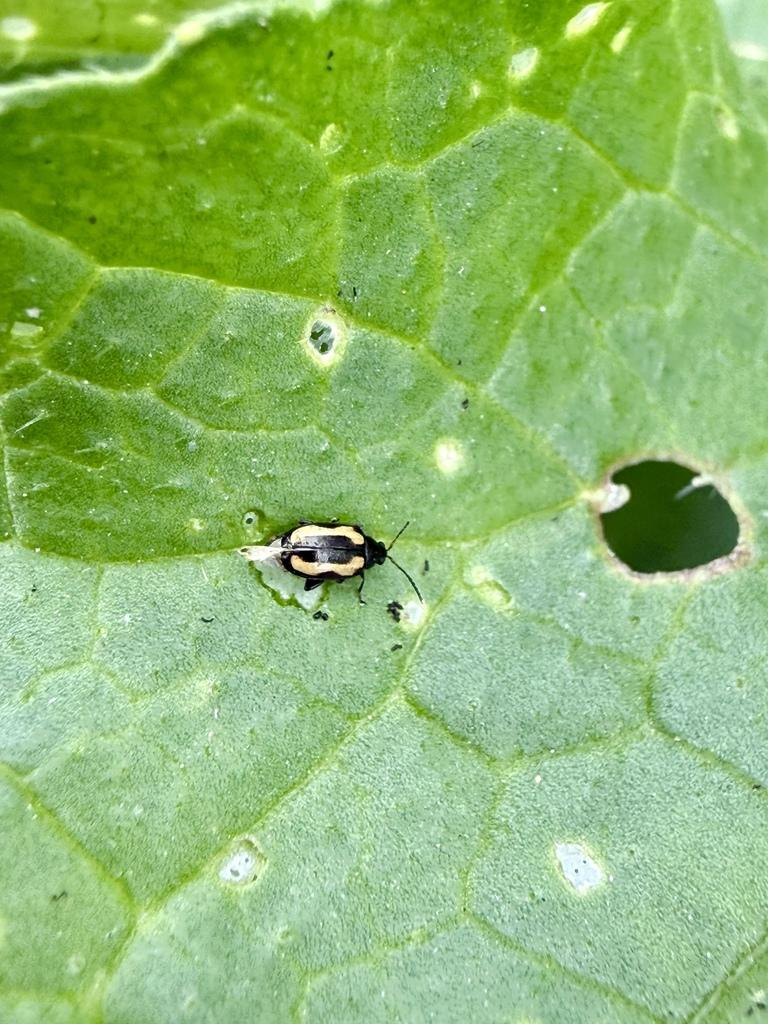flea_beetle: (220, 484, 433, 622)
